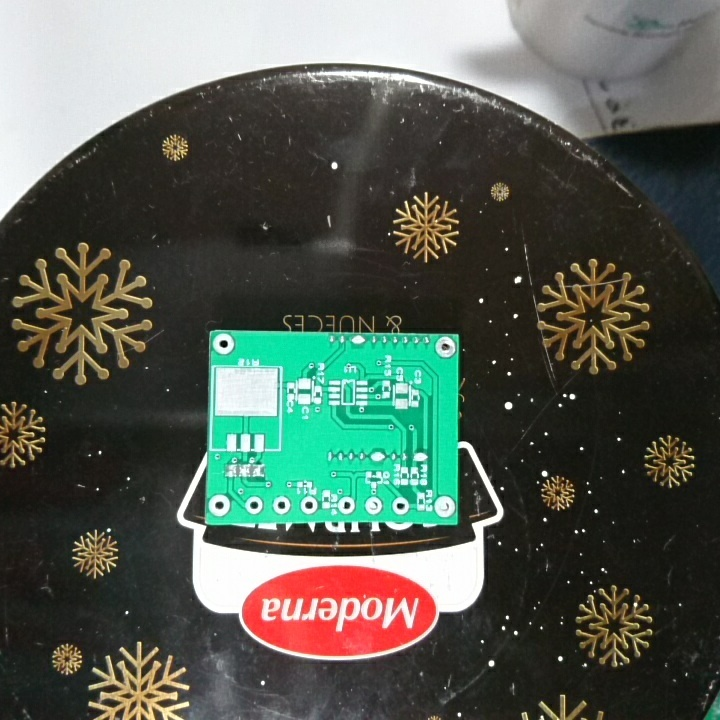F: (431, 492, 457, 520), (207, 491, 233, 518), (211, 331, 237, 357), (433, 335, 458, 360), (298, 492, 321, 517), (271, 494, 293, 519), (335, 494, 357, 518), (242, 495, 266, 516), (390, 495, 411, 518), (362, 494, 384, 515)
P: (368, 447, 389, 465), (410, 448, 429, 465), (348, 332, 367, 349)
